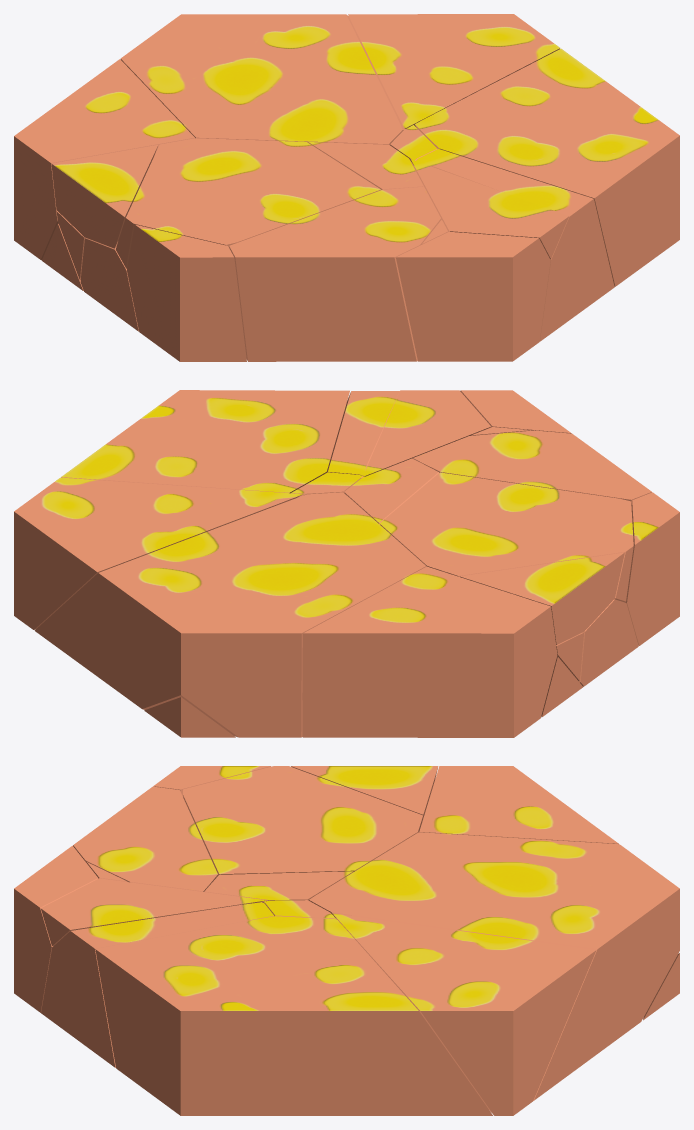
Rendered from Hex20.fbx.
3 renders of one model, top to bottom at view 1: azimuth 30°, elevation 25°; view 2: azimuth 150°, elevation 25°; view 3: azimuth 270°, elevation 25°, orthographic.
Parts seen in each view (by area): view 1: Hex1.001_cell.008_cell.002, Hex1.001_cell.005, Hex1.001_cell.002_cell, Hex1.001_cell.002_cell.010, Hex1.001_cell, Hex1.001_cell.007, Hex1.001_cell.004, Hex1.001_cell.002_cell.007, Hex1.001_cell.008_cell, Hex1.001_cell.002_cell.006, Hex1.001_cell.001, Hex1.001_cell.002_cell.005 (+4 smaller); view 2: Hex1.001_cell.005, Hex1.001_cell.004, Hex1.001_cell.008_cell.002, Hex1.001_cell.007, Hex1.001_cell.002_cell.010, Hex1.001_cell.002_cell, Hex1.001_cell.002_cell.006, Hex1.001_cell.002_cell.007, Hex1.001_cell.001, Hex1.001_cell.008_cell, Hex1.001_cell.002_cell.005, Hex1.001_cell.002_cell.001 (+5 smaller); view 3: Hex1.001_cell.008_cell.002, Hex1.001_cell.005, Hex1.001_cell.007, Hex1.001_cell.002_cell.010, Hex1.001_cell.004, Hex1.001_cell.008_cell, Hex1.001_cell.002_cell, Hex1.001_cell.001, Hex1.001_cell, Hex1.001_cell.002_cell.006, Hex1.001_cell.002_cell.005, Hex1.001_cell.002_cell.007 (+2 smaller).
Boxes of the visible parts, box(x1,y1,x2,y2) form: Hex1.001_cell.008_cell.002: box(415, 48, 679, 286); Hex1.001_cell.005: box(120, 14, 405, 144); Hex1.001_cell.002_cell: box(229, 186, 443, 361); Hex1.001_cell.002_cell.010: box(115, 138, 380, 268); Hex1.001_cell: box(396, 231, 550, 361); Hex1.001_cell.007: box(348, 14, 560, 128); Hex1.001_cell.004: box(14, 59, 194, 259); Hex1.001_cell.002_cell.007: box(127, 224, 246, 361); Hex1.001_cell.008_cell: box(416, 149, 614, 341); Hex1.001_cell.002_cell.006: box(51, 145, 157, 248); Hex1.001_cell.001: box(411, 159, 569, 259); Hex1.001_cell.002_cell.005: box(308, 142, 427, 190); Hex1.001_cell.005: box(34, 492, 426, 737); Hex1.001_cell.004: box(302, 566, 557, 737); Hex1.001_cell.008_cell.002: box(61, 390, 349, 493); Hex1.001_cell.007: box(14, 477, 303, 629); Hex1.001_cell.002_cell.010: box(379, 472, 633, 602); Hex1.001_cell.002_cell: box(412, 430, 651, 504); Hex1.001_cell.002_cell.006: box(459, 552, 624, 644); Hex1.001_cell.002_cell.007: box(625, 492, 679, 645); Hex1.001_cell.001: box(363, 390, 490, 476); Hex1.001_cell.008_cell: box(326, 391, 399, 475); Hex1.001_cell.002_cell.005: box(344, 458, 438, 524); Hex1.001_cell.002_cell.001: box(579, 599, 638, 686); Hex1.001_cell.008_cell.002: box(95, 916, 492, 1115); Hex1.001_cell.005: box(309, 832, 679, 1100); Hex1.001_cell.007: box(333, 913, 596, 1115); Hex1.001_cell.002_cell.010: box(183, 766, 422, 875); Hex1.001_cell.004: box(419, 766, 618, 844); Hex1.001_cell.008_cell: box(41, 902, 273, 1067); Hex1.001_cell.002_cell: box(73, 786, 217, 891); Hex1.001_cell.001: box(41, 878, 266, 946); Hex1.001_cell: box(14, 845, 98, 1012); Hex1.001_cell.002_cell.006: box(291, 766, 438, 826); Hex1.001_cell.002_cell.005: box(204, 871, 353, 902); Hex1.001_cell.002_cell.007: box(153, 766, 270, 797).
Bounding box in the file's own units: 1 × 0.2003 × 1.15.
Materials: 1 (1 with a texture image).
